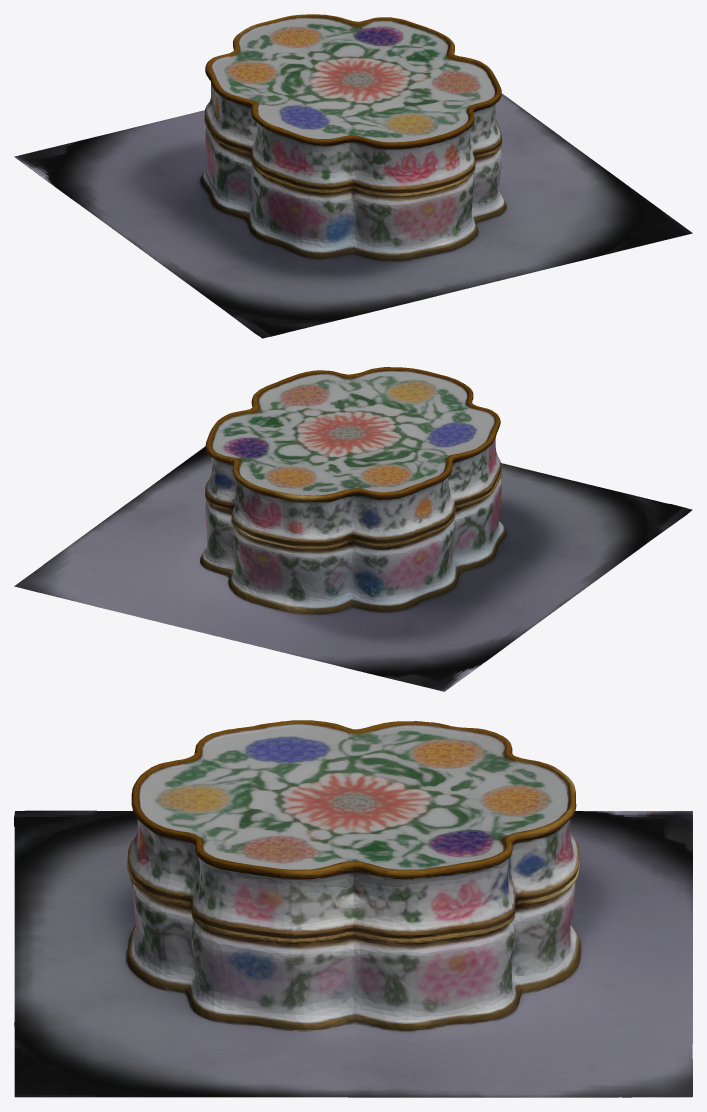
The model's file is 康熙款画珐琅缠枝莲纹葵瓣式盒.glb.
The picture shows the model from 3 angles, top to bottom: view 1: azimuth 30°, elevation 25°; view 2: azimuth 150°, elevation 25°; view 3: azimuth 270°, elevation 25°; orthographic projection. The views are drawn at different scales.
Visible parts, largest first — view 1: world; view 2: world; view 3: world.
Part boxes in pixels (box(x1,y1,x2,y2)): world: box(14, 14, 692, 338); world: box(14, 367, 692, 691); world: box(14, 720, 692, 1097).
Bounding box in the file's own units: 1 × 0.2607 × 1.
Materials: 1 (1 with a texture image).
